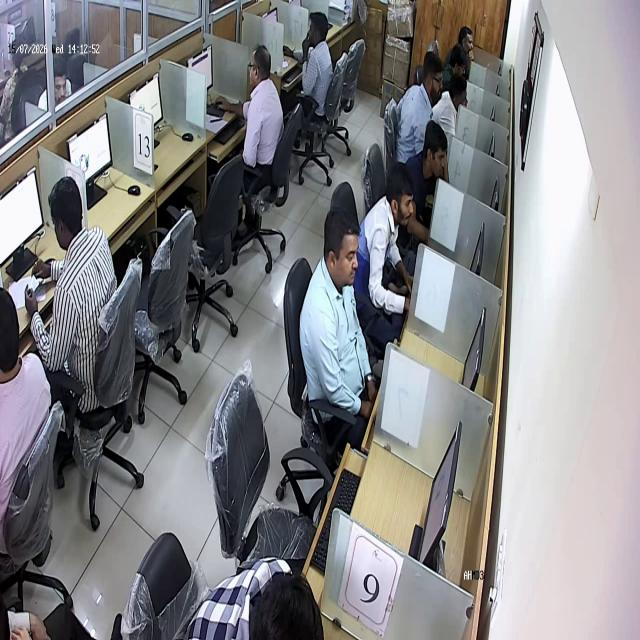paper-chit: (29, 274, 43, 293)
